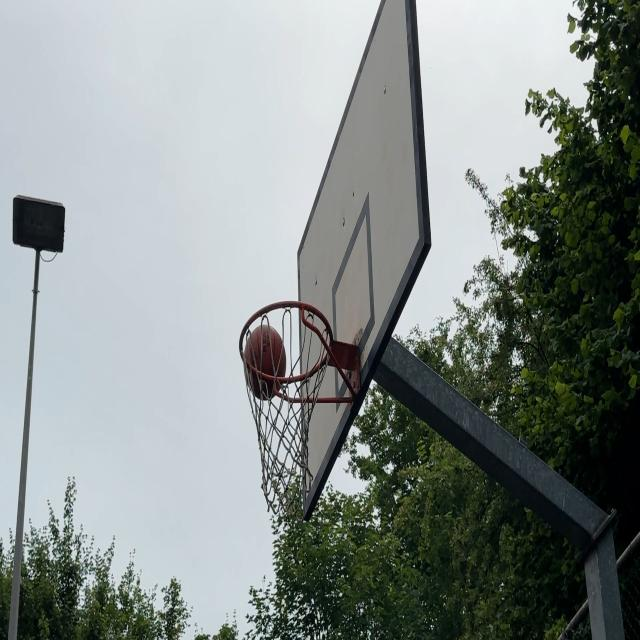rebound_hit: (243, 323, 287, 403)
